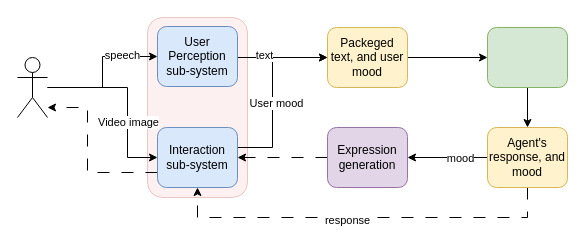
Image size: 585x244. Some labels were removed from this diagram. The centre of each missing label's shape, as x and y in pixels:
"LLM chatbot" belongs at (x=527, y=57).
"User" belongs at (x=32, y=87).
